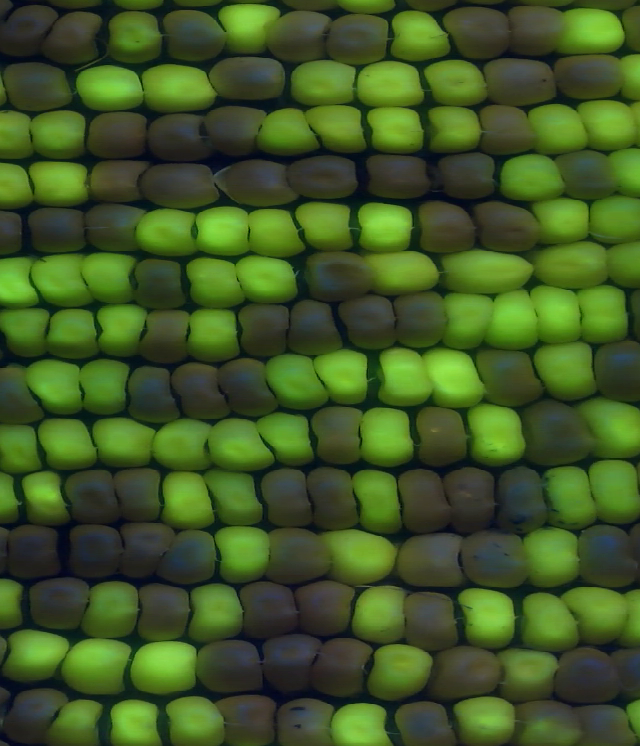fluorescent: (320, 528, 409, 589), (363, 646, 447, 710), (559, 583, 638, 646), (126, 637, 204, 699), (517, 589, 592, 653), (54, 640, 137, 696), (547, 465, 608, 540), (348, 582, 415, 650), (376, 342, 438, 414), (357, 247, 447, 296), (453, 584, 524, 646), (346, 464, 407, 536), (534, 342, 604, 404), (439, 248, 533, 294), (422, 344, 489, 408), (155, 470, 223, 533), (210, 524, 274, 590), (87, 411, 161, 468), (532, 243, 614, 294), (25, 250, 97, 308), (496, 153, 576, 205), (311, 349, 379, 410), (421, 52, 496, 107), (524, 525, 588, 589), (82, 579, 150, 639), (291, 199, 362, 256), (140, 60, 222, 109), (450, 691, 523, 746), (209, 417, 277, 476), (358, 403, 420, 467), (262, 347, 326, 408), (24, 107, 96, 161), (364, 101, 432, 158), (353, 60, 429, 111), (284, 60, 366, 107), (31, 357, 94, 418), (183, 581, 244, 644), (232, 254, 304, 307), (129, 205, 200, 258), (353, 198, 419, 255), (0, 627, 66, 684), (584, 392, 640, 459), (40, 694, 112, 746), (103, 5, 165, 65), (75, 357, 132, 422), (391, 9, 456, 66), (14, 468, 71, 533), (213, 1, 281, 55), (164, 692, 232, 746), (524, 283, 585, 343), (204, 469, 267, 527), (73, 64, 147, 113), (558, 5, 632, 54), (324, 701, 404, 746), (483, 287, 542, 348), (32, 418, 101, 470), (192, 204, 256, 260), (498, 644, 563, 699), (44, 305, 104, 364), (467, 407, 527, 466), (441, 290, 498, 352), (180, 256, 244, 311), (530, 103, 595, 157), (525, 199, 601, 245), (184, 307, 246, 362), (144, 419, 218, 465), (588, 462, 640, 527), (573, 285, 634, 340), (73, 256, 140, 306), (26, 158, 94, 207), (581, 99, 640, 154), (91, 305, 144, 365), (258, 413, 318, 466), (106, 698, 170, 746), (0, 254, 49, 316), (428, 104, 487, 154), (0, 302, 47, 364), (303, 105, 367, 150), (244, 208, 301, 256), (256, 108, 318, 152), (0, 424, 46, 483), (587, 193, 640, 243), (0, 107, 43, 159), (610, 587, 640, 654), (0, 157, 35, 213), (607, 142, 640, 199), (603, 237, 640, 287)
nonfluorescent: (389, 529, 475, 593), (305, 635, 388, 701), (419, 646, 509, 705), (458, 530, 542, 590), (523, 402, 596, 470), (150, 529, 232, 589), (396, 584, 462, 658), (164, 354, 236, 421), (60, 525, 133, 591), (301, 462, 366, 536), (134, 576, 199, 649), (442, 461, 503, 538), (214, 159, 306, 210), (260, 531, 346, 585), (472, 346, 547, 407), (304, 399, 370, 468), (158, 10, 237, 67), (22, 572, 100, 629), (192, 636, 270, 693), (412, 405, 478, 472), (298, 249, 379, 303), (254, 4, 338, 56), (570, 528, 640, 590), (62, 469, 133, 530), (549, 647, 618, 709), (291, 578, 361, 639), (80, 105, 156, 161), (215, 358, 281, 421), (240, 580, 306, 643), (474, 200, 545, 258), (359, 150, 441, 200), (405, 200, 478, 256), (339, 294, 406, 355), (136, 305, 201, 367), (393, 469, 451, 538), (504, 2, 575, 58), (280, 155, 361, 204), (487, 58, 563, 110), (231, 302, 295, 363), (117, 519, 181, 580), (261, 629, 322, 693), (129, 255, 195, 313), (0, 690, 68, 745), (5, 526, 67, 586), (260, 464, 313, 534), (127, 360, 180, 428), (554, 57, 632, 103), (82, 155, 155, 204), (25, 200, 91, 254), (493, 462, 546, 529), (558, 148, 620, 205), (134, 164, 220, 205), (43, 11, 108, 65), (442, 11, 519, 56), (79, 202, 148, 252), (394, 291, 453, 349), (108, 465, 166, 524), (203, 104, 272, 153), (430, 149, 499, 198), (323, 19, 393, 67), (140, 113, 209, 161), (288, 299, 347, 355), (271, 696, 337, 746), (476, 103, 539, 155), (215, 692, 282, 740), (11, 58, 76, 107), (570, 699, 637, 746), (0, 1, 52, 59), (208, 60, 287, 98), (393, 699, 455, 746), (589, 345, 640, 401), (0, 368, 43, 427), (607, 640, 640, 701)
